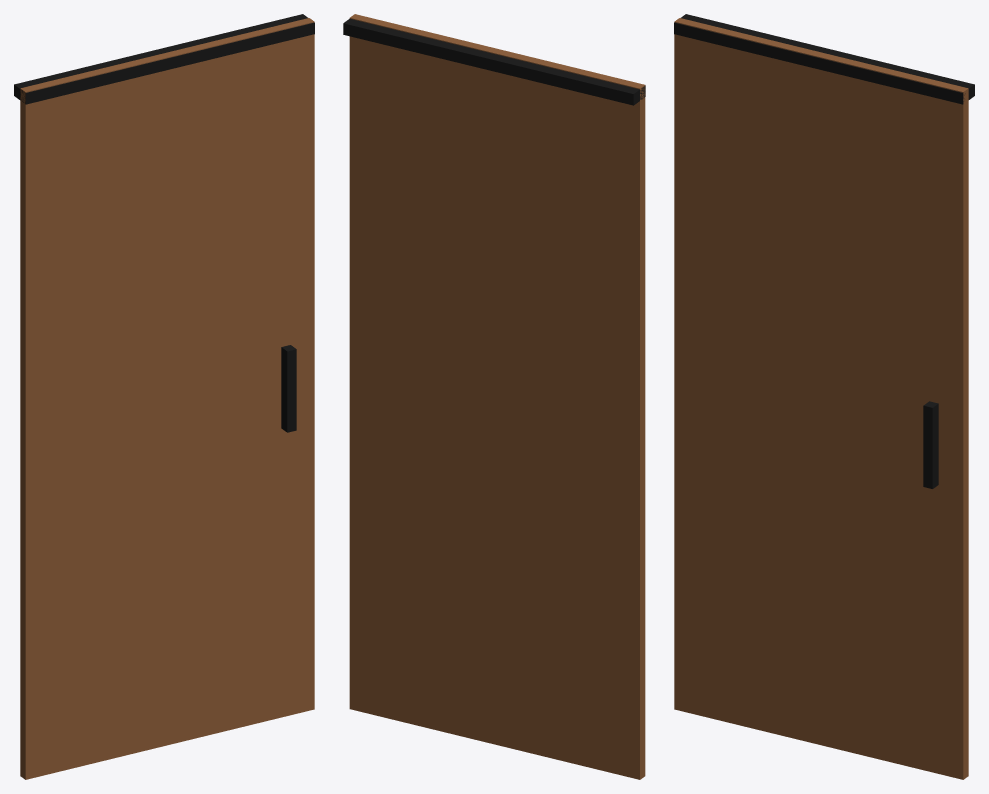
Rendered from BTH-0007.glb.
The picture shows the model from 3 angles, left to right: view 1: azimuth 30°, elevation 25°; view 2: azimuth 150°, elevation 25°; view 3: azimuth 330°, elevation 25°; orthographic projection.
Visible parts, largest first — view 1: sliding-door; view 2: sliding-door; view 3: sliding-door.
Part boxes in pixels (x1,y1,x2,y2): sliding-door: (14,14,314,779); sliding-door: (343,14,645,779); sliding-door: (674,14,974,779).
Size of what is drawn, in the model's own units: 0.93 by 2.12 by 0.1.
